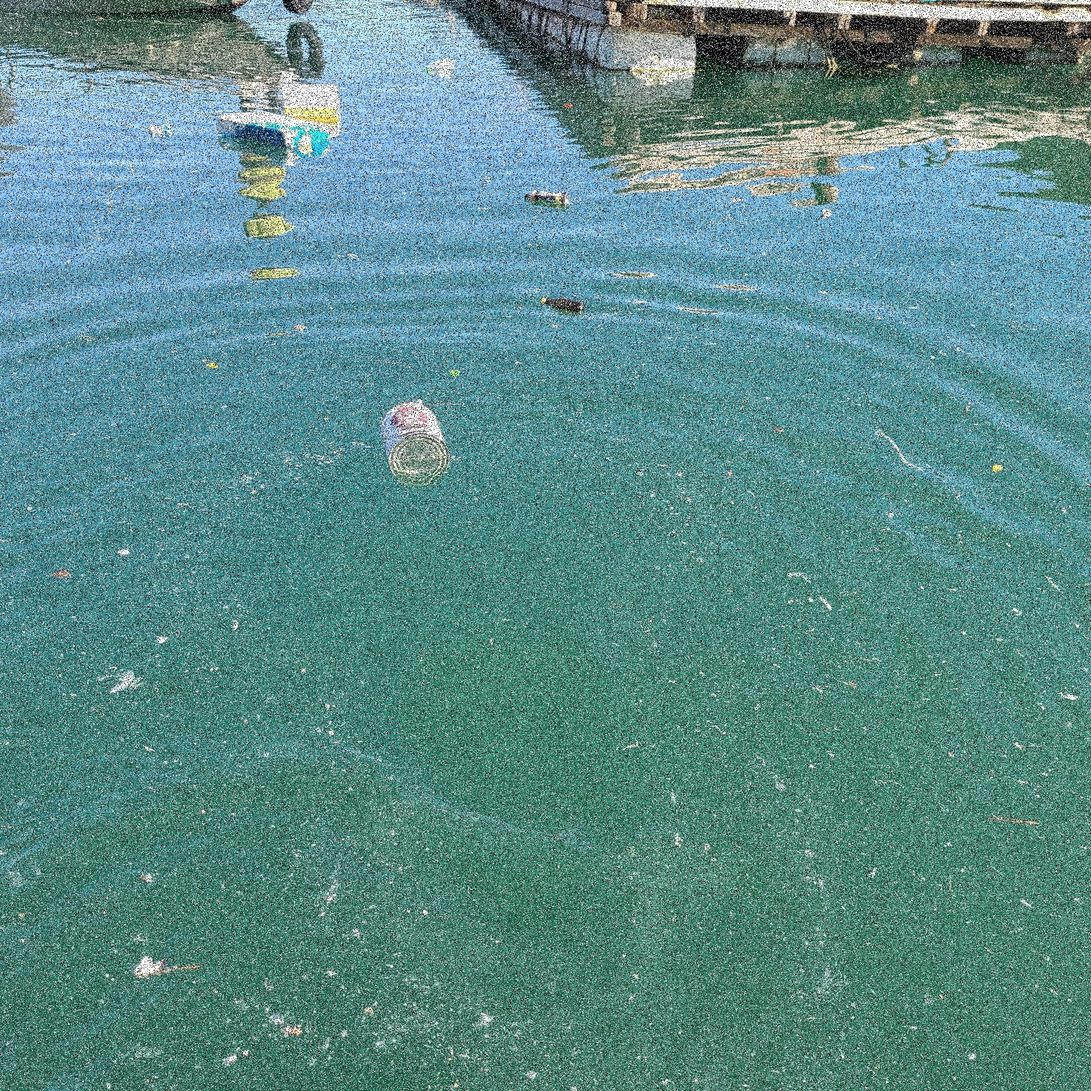sampah_terapung: (217, 111, 330, 149), (283, 84, 341, 116), (542, 298, 586, 313), (526, 191, 570, 204), (426, 58, 456, 72), (149, 122, 173, 134)
